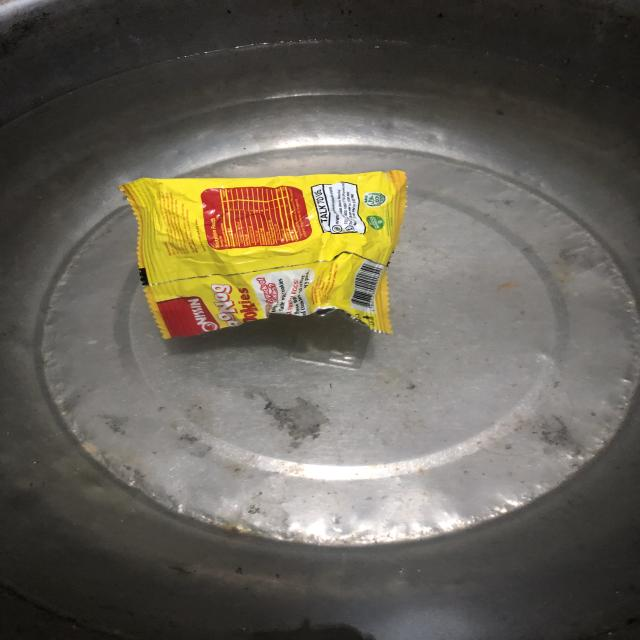Plastic Wrapper: (89, 146, 451, 370)
